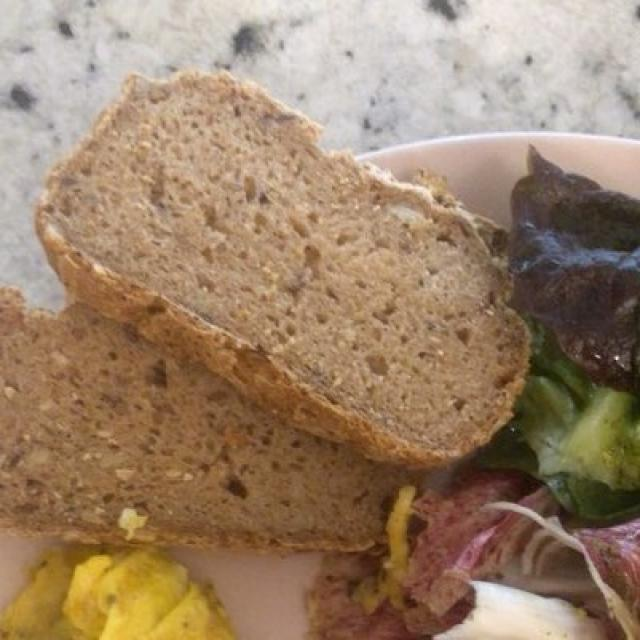bread: (3, 73, 522, 591)
